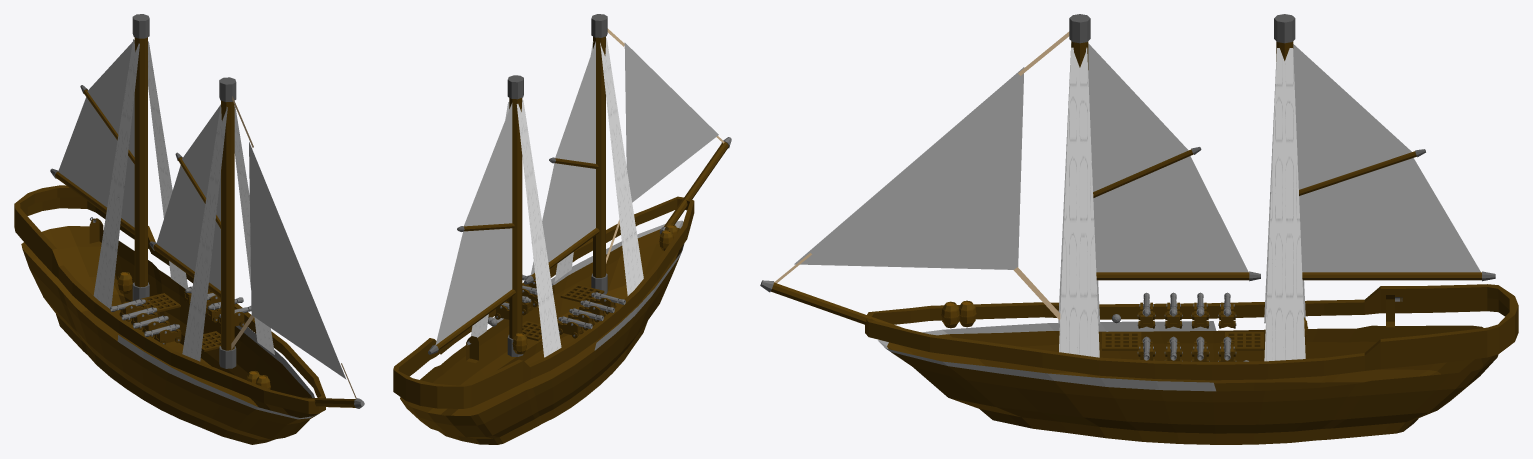
The model's file is Schooner_Mod.fbx.
3 views of the same model, side by side, from view 1: azimuth 30°, elevation 25°; view 2: azimuth 150°, elevation 25°; view 3: azimuth 270°, elevation 25° (orthographic). The views are drawn at different scales.
Parts seen in each view (by area): view 1: Plane.004, Cylinder.002, Plane.010, Plane.013, Plane.031, Plane.011, Plane.024, Plane.016, Plane.018, Plane.014, Plane.012, Plane.032; view 2: Plane.004, Cylinder.002, Plane.010, Plane.013, Plane.011, Plane.031, Plane.024, Plane.014, Plane.012, Plane.018, Plane.016; view 3: Plane.004, Plane.010, Plane.016, Plane.013, Plane.011, Plane.014, Cylinder.002, Plane.012, Plane.018, Plane.032.
Boxes of the visible parts, left/top/right/bottom form: Plane.004: left=14, top=185, right=325, bottom=444; Cylinder.002: left=50, top=14, right=364, bottom=408; Plane.010: left=249, top=142, right=346, bottom=379; Plane.013: left=58, top=97, right=134, bottom=227; Plane.031: left=93, top=39, right=139, bottom=308; Plane.011: left=156, top=165, right=220, bottom=290; Plane.024: left=182, top=104, right=227, bottom=361; Plane.016: left=148, top=41, right=274, bottom=354; Plane.018: left=110, top=286, right=251, bottom=344; Plane.014: left=87, top=42, right=134, bottom=156; Plane.012: left=182, top=105, right=220, bottom=221; Plane.032: left=231, top=96, right=356, bottom=398; Plane.004: left=393, top=196, right=694, bottom=444; Cylinder.002: left=428, top=14, right=731, bottom=356; Plane.010: left=624, top=42, right=718, bottom=202; Plane.013: left=435, top=228, right=512, bottom=344; Plane.011: left=530, top=163, right=595, bottom=275; Plane.031: left=516, top=100, right=561, bottom=357; Plane.024: left=600, top=38, right=643, bottom=295; Plane.014: left=464, top=103, right=512, bottom=226; Plane.012: left=555, top=41, right=595, bottom=163; Plane.018: left=495, top=274, right=625, bottom=338; Plane.016: left=470, top=41, right=593, bottom=337; Plane.004: left=865, top=284, right=1518, bottom=444; Plane.010: left=794, top=67, right=1024, bottom=269; Plane.016: left=1059, top=47, right=1305, bottom=361; Plane.013: left=1299, top=158, right=1480, bottom=272; Plane.011: left=1093, top=156, right=1248, bottom=272; Plane.014: left=1293, top=44, right=1411, bottom=189; Cylinder.002: left=760, top=14, right=1495, bottom=327; Plane.012: left=1088, top=43, right=1188, bottom=191; Plane.018: left=1137, top=292, right=1236, bottom=361; Plane.032: left=774, top=31, right=1069, bottom=320.
Size of the model in its own units: 1338 by 4003 by 6851.
